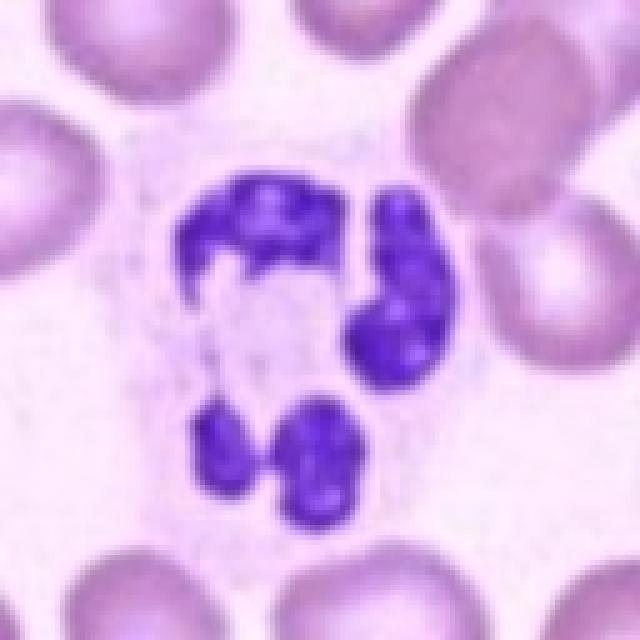neutro: (86, 125, 523, 583)
